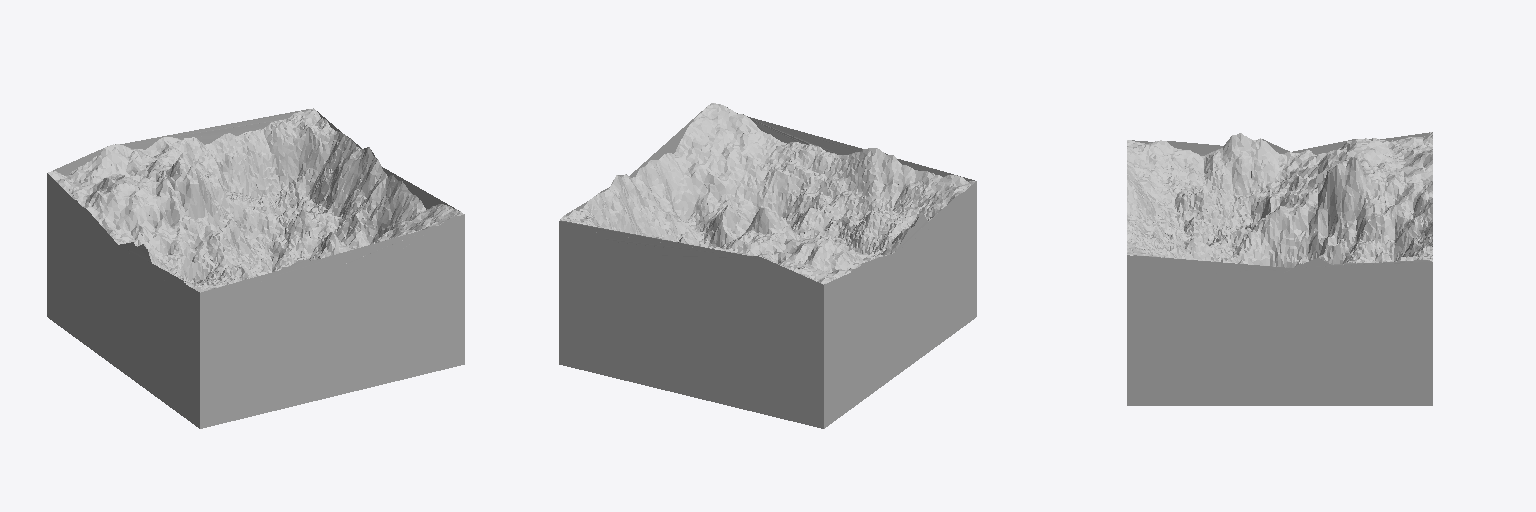
The model's file is valley.obj.
The picture shows the model from 3 angles: view 1: azimuth 30°, elevation 25°; view 2: azimuth 150°, elevation 25°; view 3: azimuth 270°, elevation 25°; orthographic projection.
Visible parts, largest first — view 1: Plane; view 2: Plane; view 3: Plane.
Boxes of the visible parts, box(x1,y1,x2,y2) form: Plane: box(47, 108, 464, 428); Plane: box(559, 103, 976, 428); Plane: box(1127, 132, 1432, 405).
Bounding box in the file's own units: 200 × 123 × 200.